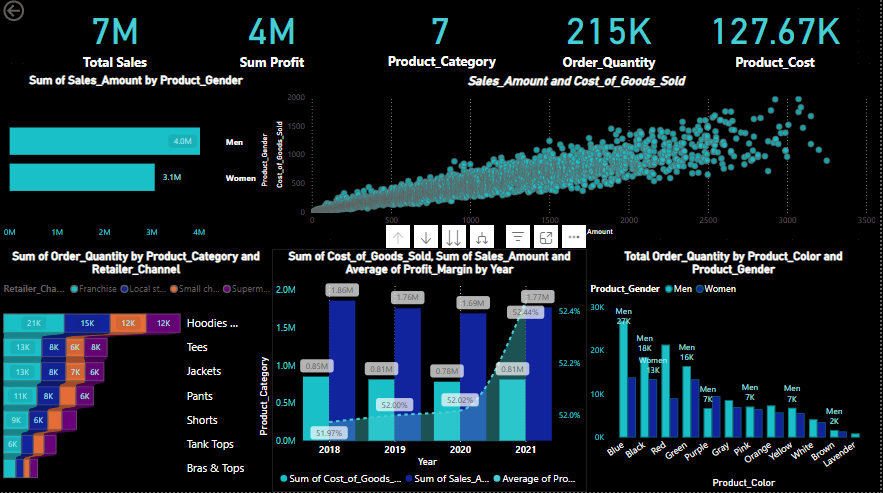

What the dashboard file says about the page in this screenshot:
{"tool":"powerbi","page":{"name":" Sales","canvas":[1280,720],"ordinal":1},"visuals":[{"type":"scatterChart","fields":{"X":["Orders3.Sales_Amount","Orders3.Order_Date"],"Y":["Orders3.Cost_of_Goods_Sold"]},"box":[395.6,110.5,884.4,241.5],"z":0},{"type":"card","fields":{"Values":["Sum(Orders3. Order_Quantity )"]},"box":[765.1,0,241.5,110.5],"z":1000},{"type":"card","fields":{"Values":["Sum(Orders3.Profit)"]},"box":[274.9,0,241.5,110.5],"z":2000},{"type":"card","fields":{"Values":["Sum(Orders3.Product_Cost)"]},"box":[1006.5,0,241.5,110.5],"z":3000},{"type":"card","fields":{"Values":["Sum(Orders3.Sales_Amount)"]},"box":[46.5,0,241.5,110.5],"z":4000},{"type":"card","fields":{"Values":["Count(Products4.Product_Category)"]},"box":[519.3,0,241.5,109.1],"z":5000},{"type":"clusteredBarChart","fields":{"Y":["Sum(Orders3.Sales_Amount)"],"Category":["Products4.Product_Gender"]},"box":[0,110.5,395.6,250.2],"z":6000},{"type":"barChart","fields":{"Y":["Sum(Orders3. Order_Quantity )"],"Category":["Products4.Product_Category"],"Series":["Retailers2.Retailer_Channel"]},"box":[0,366.5,395.6,353.5],"z":7000},{"type":"clusteredColumnChart","fields":{"Category":["Products4.Product_Color"],"Series":["Products4.Product_Gender"],"Y":["Sum(Orders3. Order_Quantity )"]},"box":[853.8,366.5,426.2,353.5],"z":8000},{"type":"lineClusteredColumnComboChart","fields":{"Category":["Orders3.Order_Date.Variation.Date Hierarchy.Year","Orders3.Order_Date.Variation.Date Hierarchy.Month"],"Y":["Sum(Orders3.Cost_of_Goods_Sold)","Sum(Orders3.Sales_Amount)"],"Y2":["Avg(Orders3.Profit_Margin)"]},"box":[395.6,366.5,458.2,353.5],"z":9000},{"type":"actionButton","box":[0,0,100,40],"z":11000}]}

Visuals, with their boxes in screenshot pixels (x1, y1, x2, y2), scaled from the page's 1280x720 canvas onto the 883x493 screenshot:
scatterChart - Orders3.Sales_Amount x Orders3.Order_Date: x1=273, y1=76, x2=882, y2=241
card - Sum(Orders3. Order_Quantity ): x1=528, y1=0, x2=694, y2=76
card - Sum(Orders3.Profit): x1=190, y1=0, x2=356, y2=76
card - Sum(Orders3.Product_Cost): x1=694, y1=0, x2=861, y2=76
card - Sum(Orders3.Sales_Amount): x1=32, y1=0, x2=199, y2=76
card - Count(Products4.Product_Category): x1=358, y1=0, x2=525, y2=75
clusteredBarChart - Sum(Orders3.Sales_Amount) x Products4.Product_Gender: x1=0, y1=76, x2=273, y2=247
barChart - Sum(Orders3. Order_Quantity ) x Products4.Product_Category: x1=0, y1=251, x2=273, y2=492
clusteredColumnChart - Products4.Product_Color x Products4.Product_Gender: x1=589, y1=251, x2=882, y2=492
lineClusteredColumnComboChart - Orders3.Order_Date.Variation.Date Hierarchy.Year x Orders3.Order_Date.Variation.Date Hierarchy.Month: x1=273, y1=251, x2=589, y2=492
actionButton: x1=0, y1=0, x2=69, y2=27
